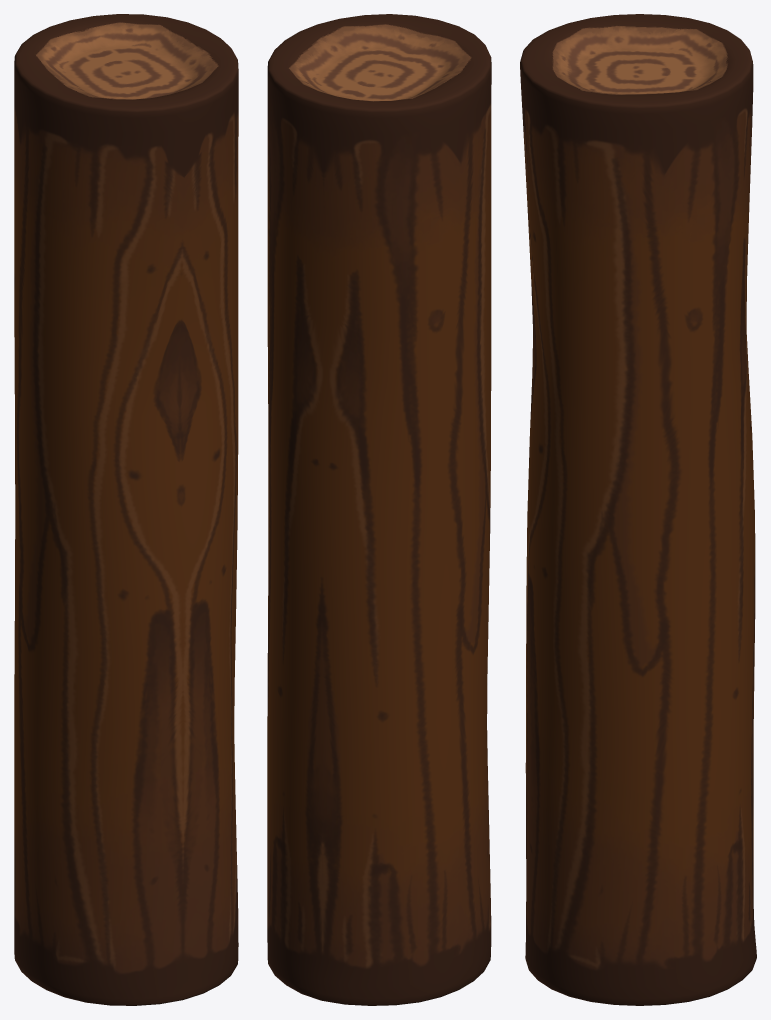
Rendered from Log.fbx.
The picture shows the model from 3 angles, left to right: view 1: azimuth 30°, elevation 25°; view 2: azimuth 150°, elevation 25°; view 3: azimuth 270°, elevation 25°; orthographic projection.
Parts seen in each view (by area): view 1: Log_bench_lambert1_0; view 2: Log_bench_lambert1_0; view 3: Log_bench_lambert1_0.
Part boxes in pixels (bbox=[...]): Log_bench_lambert1_0: bbox=[14, 14, 238, 1005]; Log_bench_lambert1_0: bbox=[267, 14, 491, 1005]; Log_bench_lambert1_0: bbox=[520, 14, 756, 1005].
Size of the model in its own units: 19.62 by 87.93 by 20.94.
Materials: 1 (1 with a texture image).
